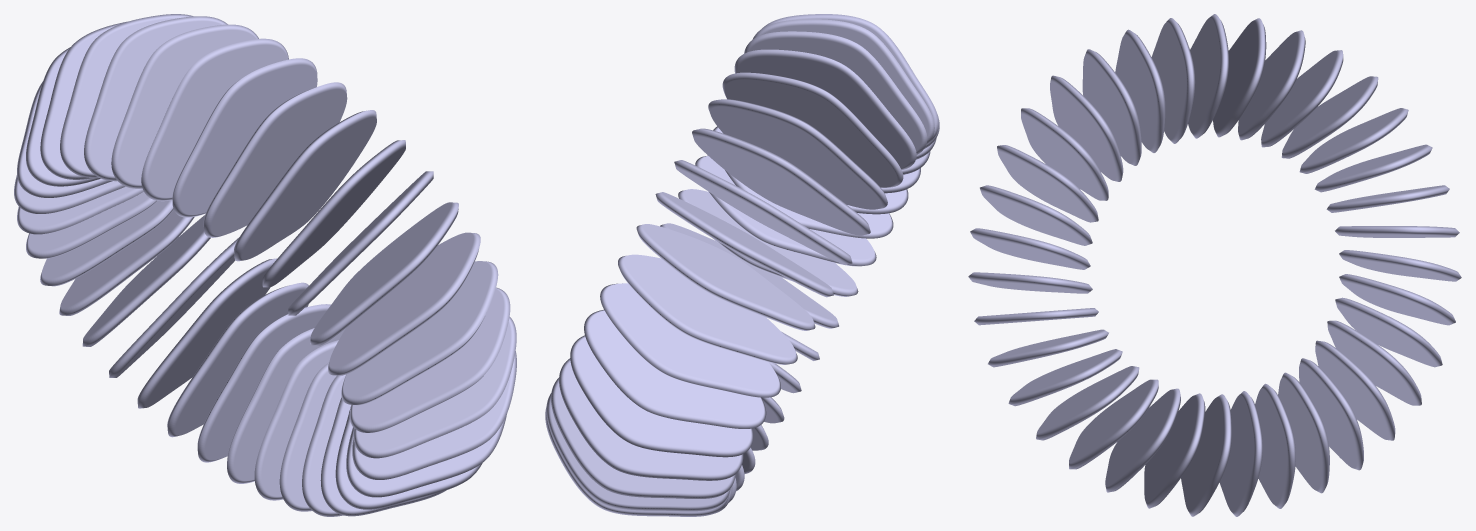
Rendered from chips.gltf.
3 views of the same model, side by side, from view 1: azimuth 30°, elevation 25°; view 2: azimuth 150°, elevation 25°; view 3: azimuth 270°, elevation 25° (orthographic). The views are drawn at different scales.
Size of the model in its own units: 2.79 by 3.69 by 3.92.
